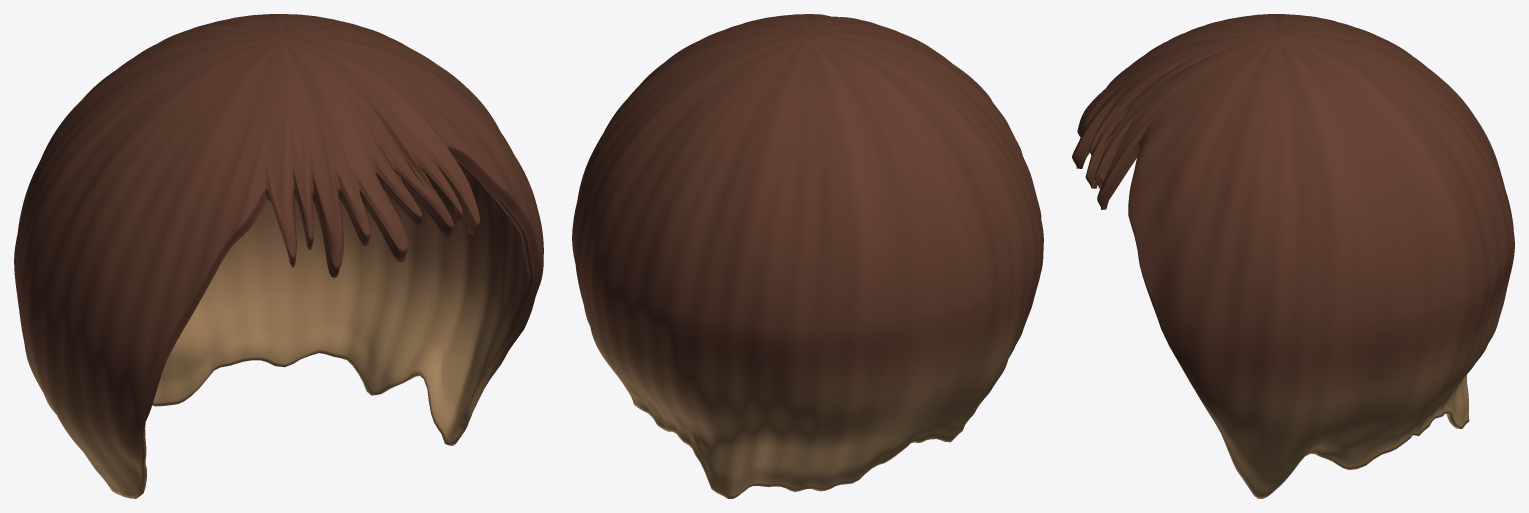
File: side-sweep-pashmina-ombre.glb
3 renders of one model, left to right at view 1: azimuth 30°, elevation 25°; view 2: azimuth 150°, elevation 25°; view 3: azimuth 270°, elevation 25°, orthographic. The views are drawn at different scales.
Visible parts, largest first — view 1: Hair / layered lob; view 2: Hair / layered lob; view 3: Hair / layered lob.
Part boxes in pixels (x1=…): Hair / layered lob: x1=14, y1=14, x2=543, y2=498; Hair / layered lob: x1=572, y1=14, x2=1043, y2=498; Hair / layered lob: x1=1072, y1=14, x2=1514, y2=498.
Size of the model in its own units: 0.8384 by 0.7657 by 0.7825.
